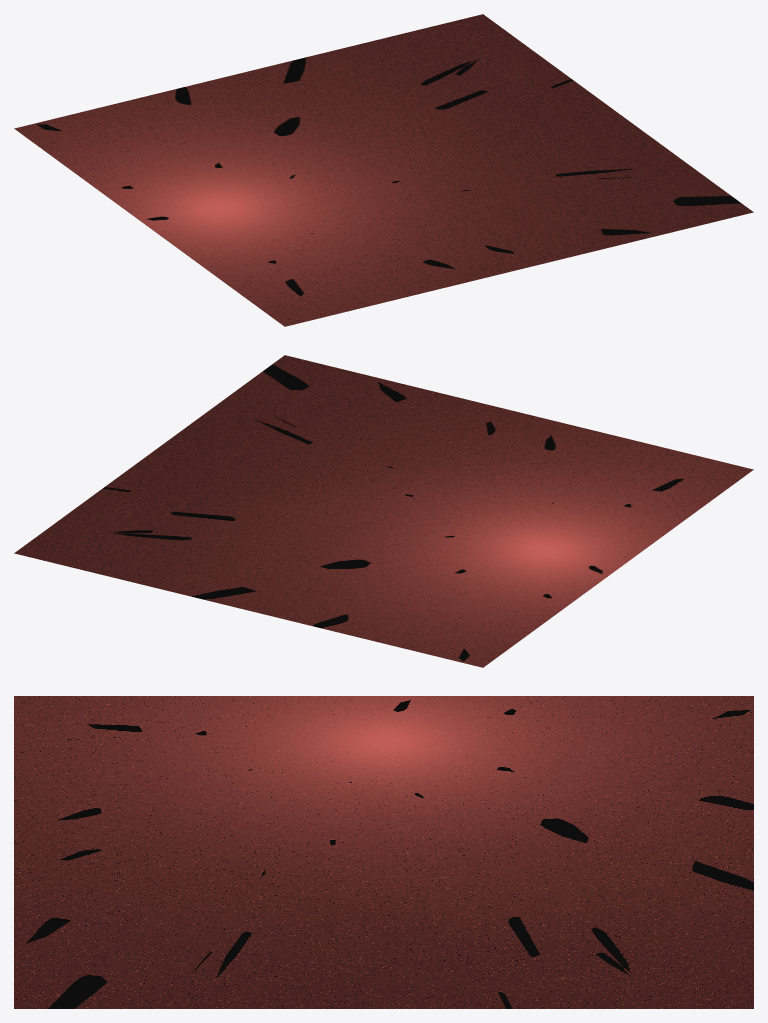
Rendered from Landscape.gltf.
3 renders of one model, top to bottom at view 1: azimuth 30°, elevation 25°; view 2: azimuth 150°, elevation 25°; view 3: azimuth 270°, elevation 25°, orthographic. The views are drawn at different scales.
Visible parts, largest first — view 1: Landscape; view 2: Landscape; view 3: Landscape.
Part boxes in pixels (bbox=[...]): Landscape: bbox=[14, 14, 753, 326]; Landscape: bbox=[14, 355, 753, 667]; Landscape: bbox=[14, 696, 753, 1008].
Bounding box in the file's own units: 1200 × 10 × 1200.
1 material, 1 textured.
